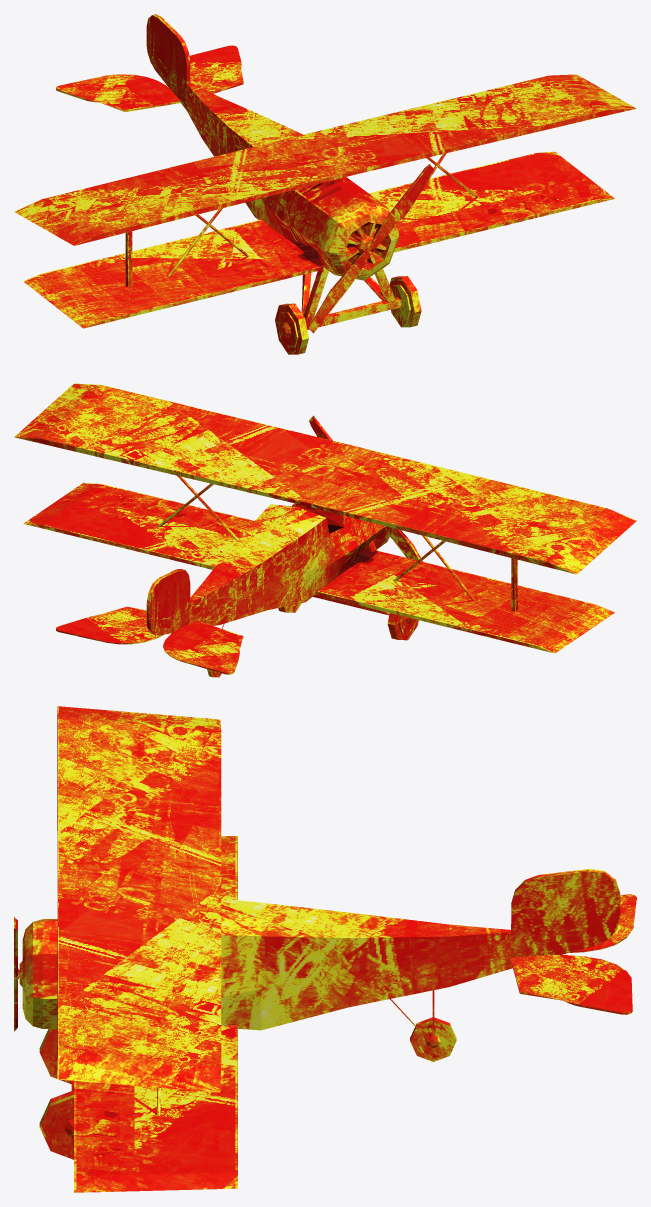
File: biplane_painted.glb
3 views of the same model, one above another, from view 1: azimuth 30°, elevation 25°; view 2: azimuth 150°, elevation 25°; view 3: azimuth 270°, elevation 25° (orthographic). The views are drawn at different scales.
Parts seen in each view (by area): view 1: hull; view 2: hull; view 3: hull.
Boxes of the visible parts, box(x1,y1,x2,y2) form: hull: box(14, 14, 636, 354); hull: box(14, 383, 636, 677); hull: box(14, 706, 636, 1192).
Bounding box in the file's own units: 3.34 × 1.05 × 2.35.
Materials: 1 (1 with a texture image).
